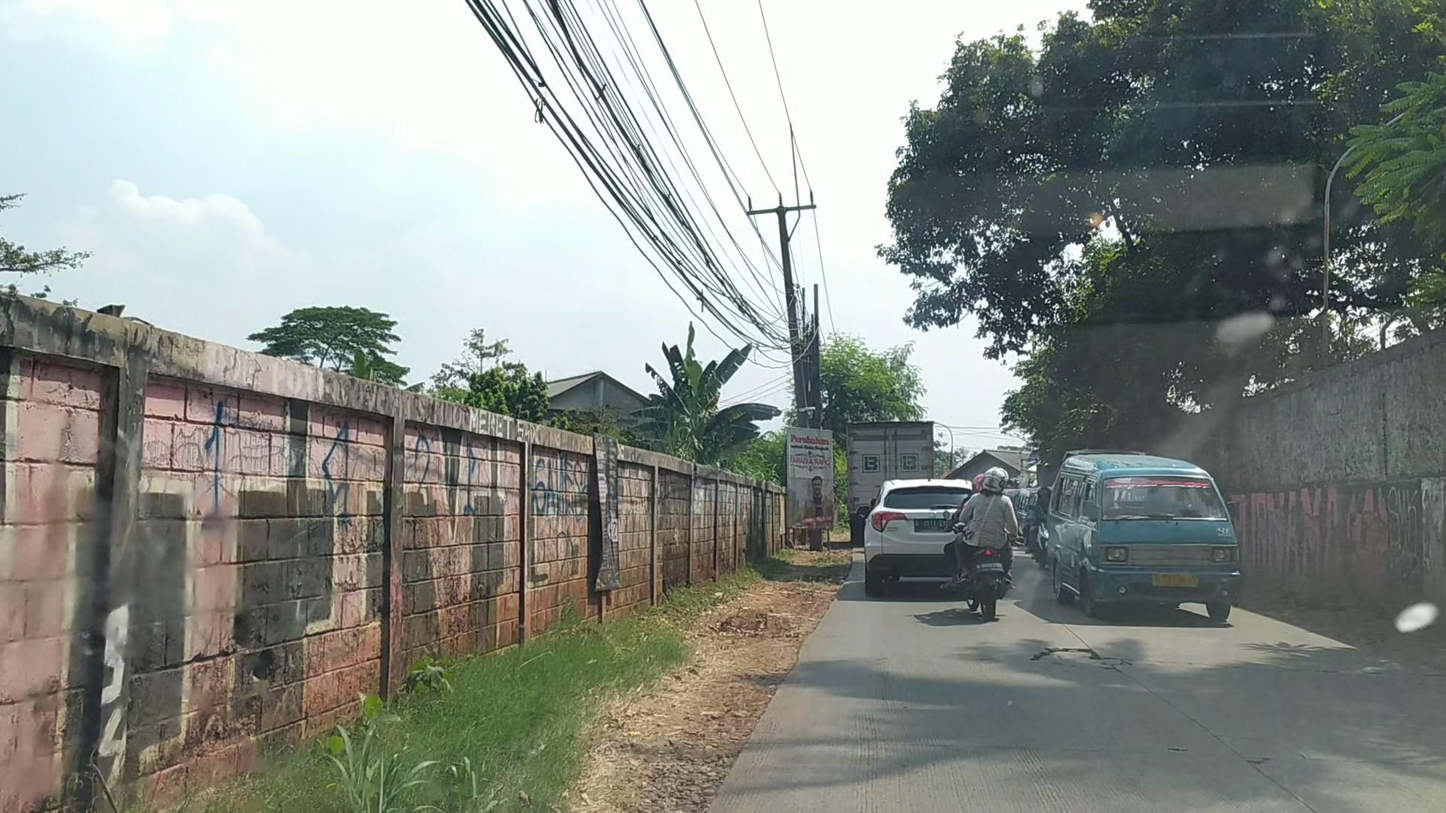pothole: (1033, 646, 1130, 669)
